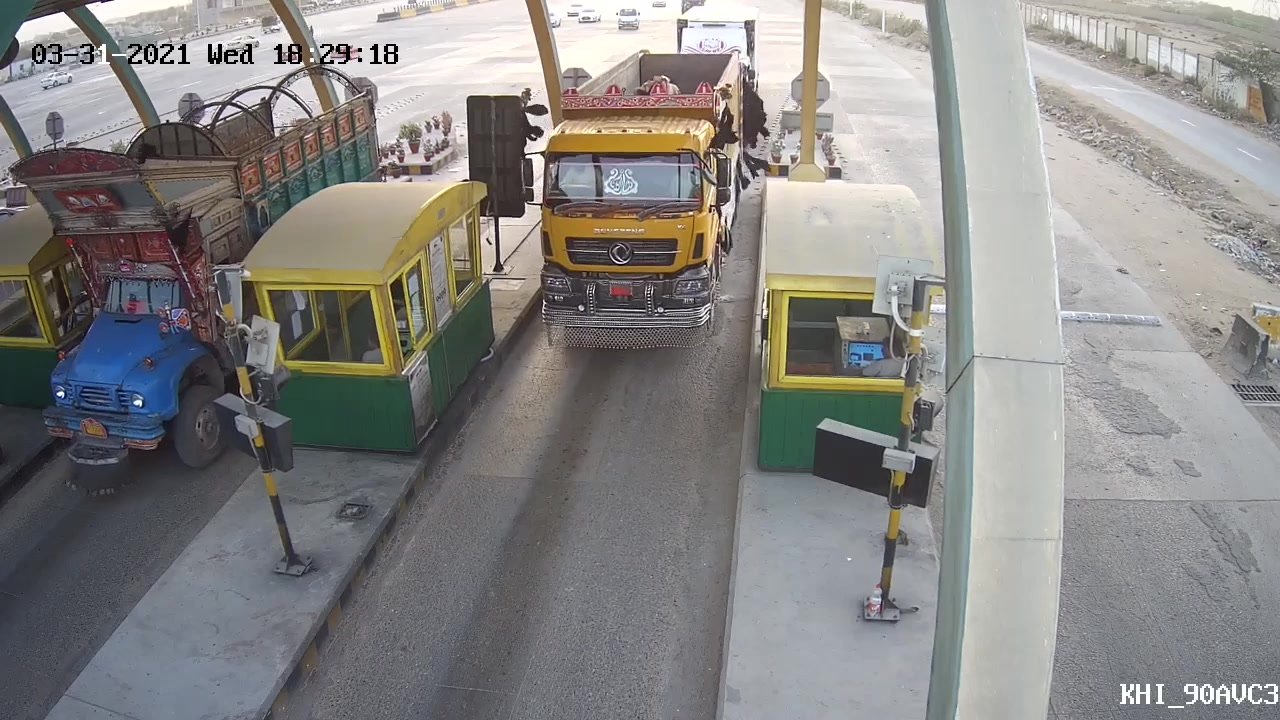F6: (520, 51, 757, 354)
